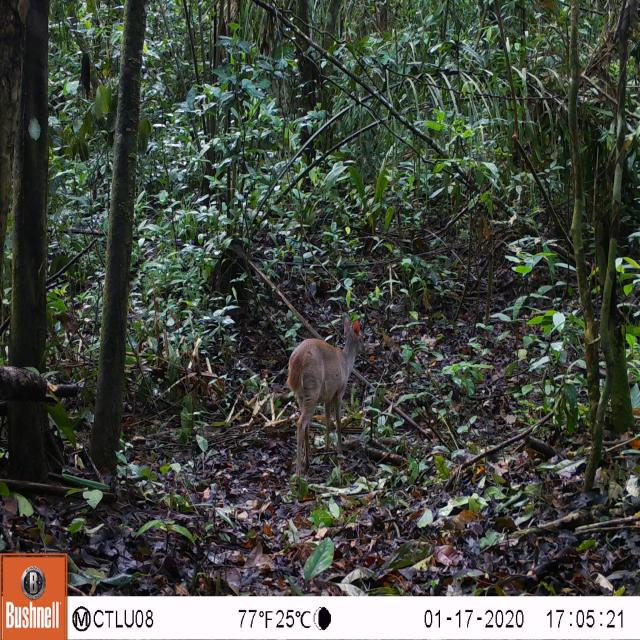White-tailed Deer: (277, 313, 367, 477)
